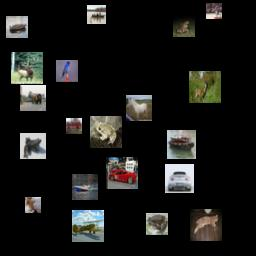airplane: (72, 210, 104, 242)
automobile: (106, 157, 138, 189), (165, 164, 194, 193)
bird: (56, 60, 78, 82)
cat: (190, 209, 222, 241), (25, 197, 41, 213)
deer: (11, 52, 43, 84), (189, 71, 221, 103)
frog: (90, 116, 122, 148), (20, 133, 46, 159), (173, 15, 195, 37), (146, 213, 168, 235)
ship: (167, 130, 196, 159), (72, 174, 98, 200), (6, 16, 28, 38), (87, 5, 106, 24)
truck: (20, 85, 46, 111), (66, 118, 82, 134)
